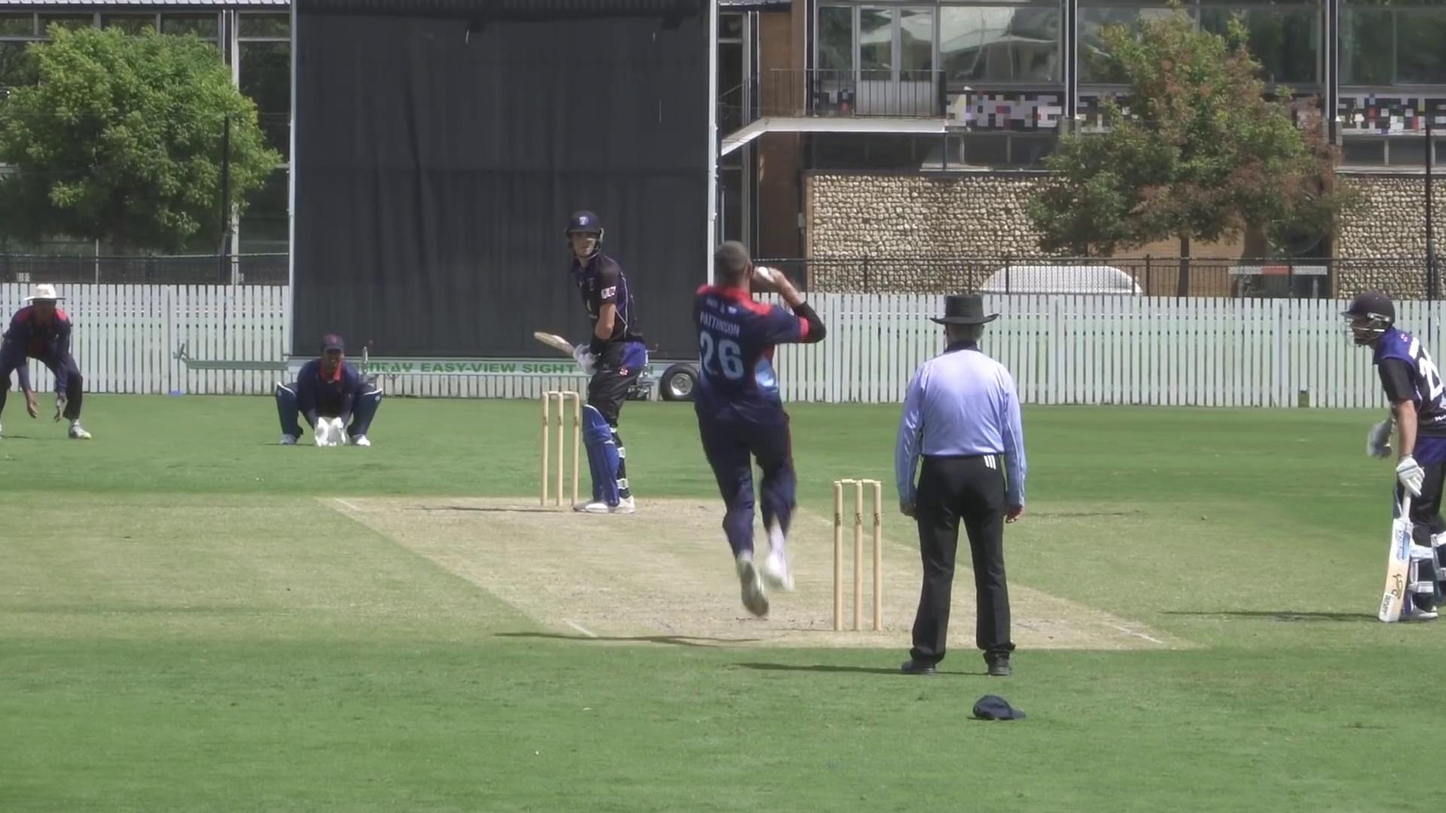ball: (749, 261, 774, 286)
